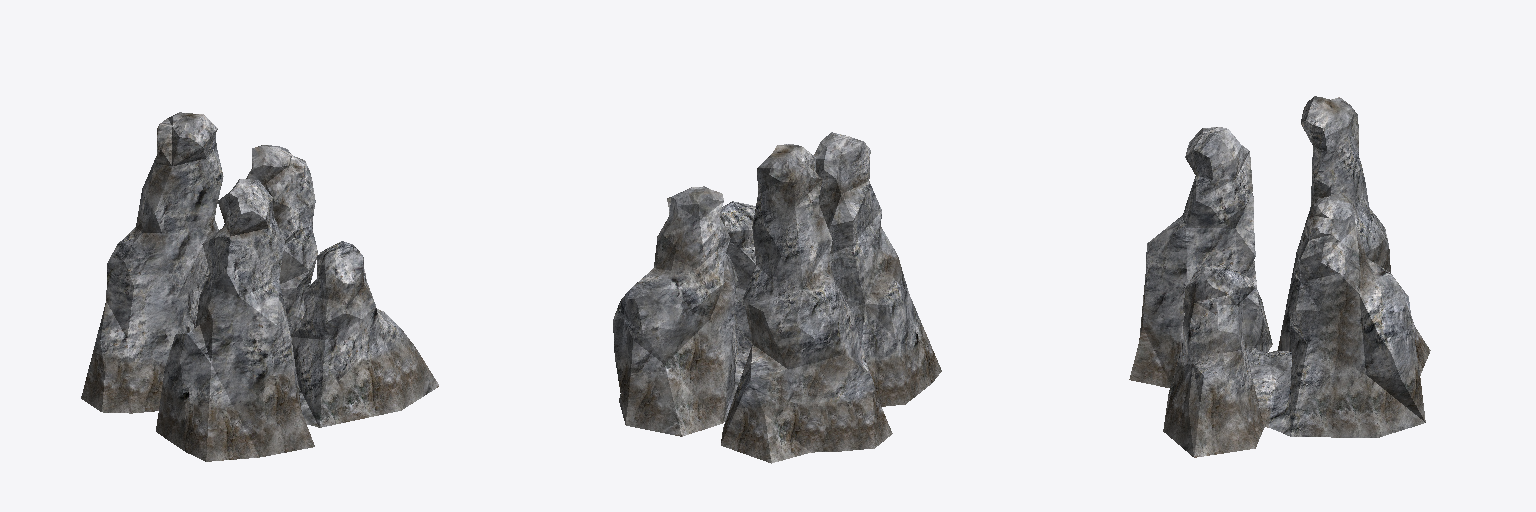
3 renders of one model, left to right at view 1: azimuth 30°, elevation 25°; view 2: azimuth 150°, elevation 25°; view 3: azimuth 270°, elevation 25°, orthographic.
Parts seen in each view (by area): view 1: RockPileOne200; view 2: RockPileOne200; view 3: RockPileOne200.
Boxes of the visible parts, x1,y1,x2,y2 form: RockPileOne200: [81, 112, 438, 461]; RockPileOne200: [613, 132, 941, 463]; RockPileOne200: [1129, 96, 1430, 457].
Size of the model in its own units: 10.87 by 9.98 by 10.06.
Materials: 1 (1 with a texture image).